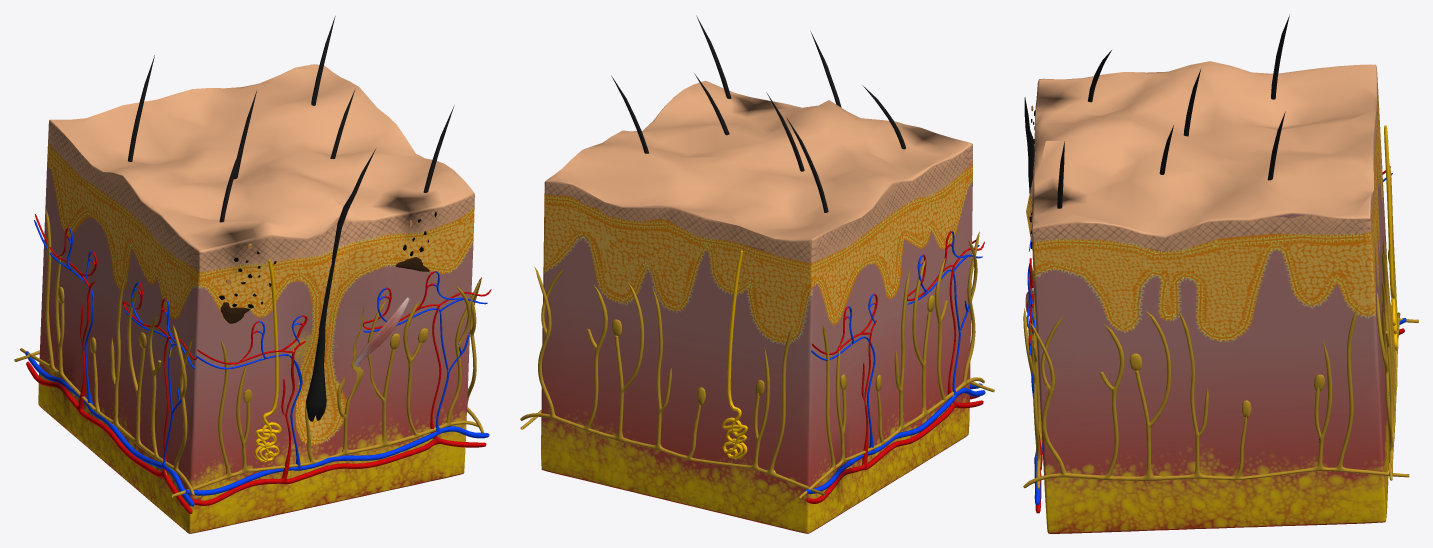
File: spotted_skin.glb
The picture shows the model from 3 angles, left to right: view 1: azimuth 30°, elevation 25°; view 2: azimuth 150°, elevation 25°; view 3: azimuth 270°, elevation 25°; orthographic projection. The views are drawn at different scales.
Visible parts, largest first — view 1: skin_skin_0_0; view 2: skin_skin_0_0; view 3: skin_skin_0_0.
Boxes of the visible parts, left/top/right/bottom form: skin_skin_0_0: left=14, top=16, right=491, bottom=533; skin_skin_0_0: left=520, top=15, right=994, bottom=533; skin_skin_0_0: left=1023, top=14, right=1418, bottom=533.
Size of the model in its own units: 1.64 by 1.91 by 1.64.
1 material, 1 textured.
